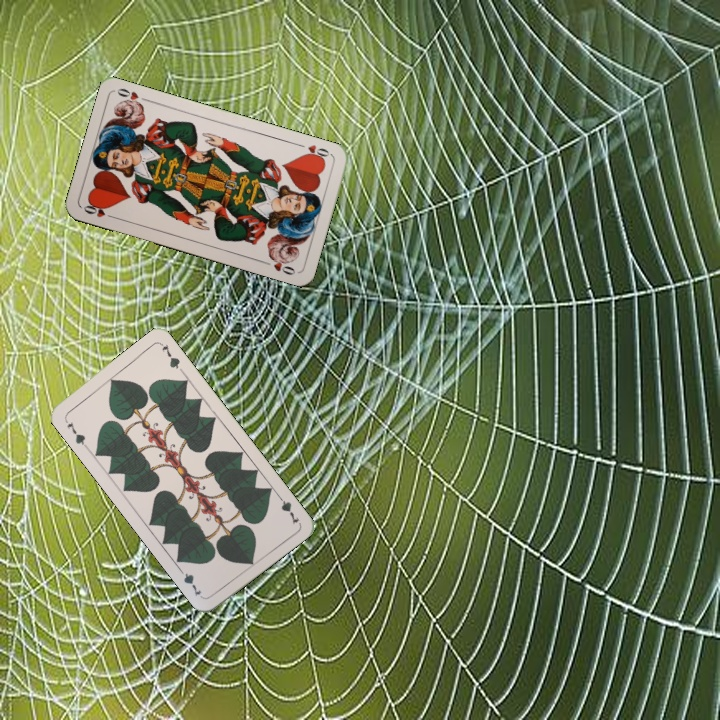G7: (273, 490, 302, 527), (63, 417, 90, 450)
HO: (294, 140, 334, 163), (79, 199, 118, 221)
